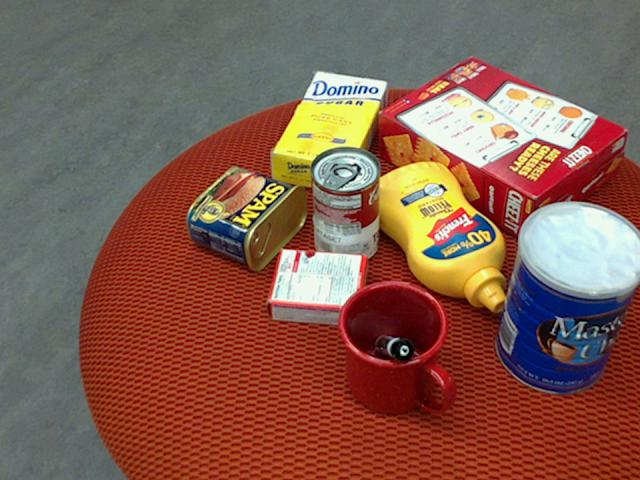cracker_box: (377, 55, 625, 240)
gelatin_box: (263, 248, 364, 330)
large_marker: (374, 335, 413, 362)
master_chef_can: (494, 202, 639, 395)
mug: (334, 281, 451, 415)
mustard_bottle: (365, 161, 506, 313)
potted_meat_can: (185, 165, 307, 271)
sugar_box: (270, 70, 386, 192)
tomato_soup_can: (309, 144, 380, 264)
tuna_fish_can: (542, 216, 635, 299)
